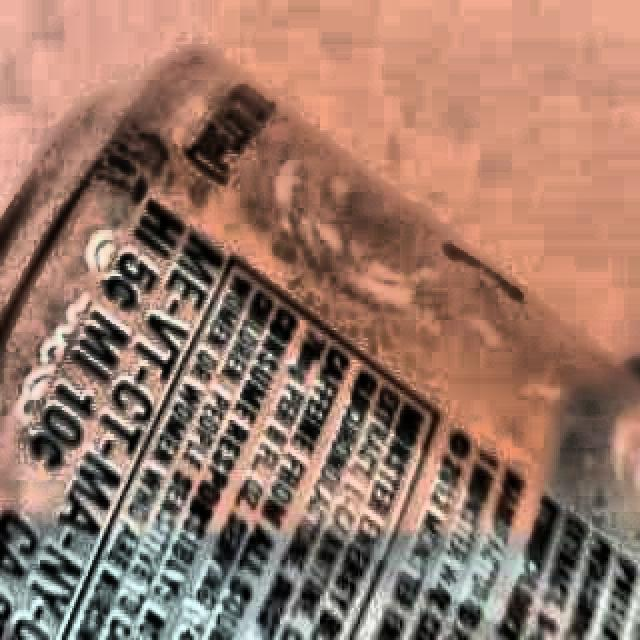metal: (0, 46, 640, 640)
